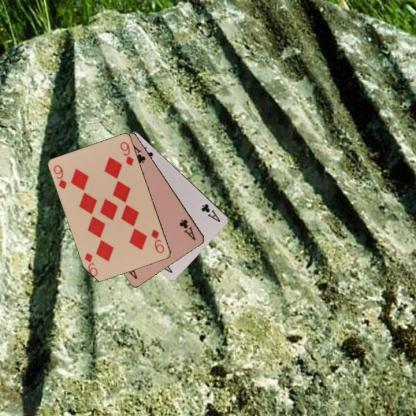9d: (148, 226, 166, 255), (51, 162, 68, 191)
Ac: (199, 201, 222, 224), (177, 217, 197, 242)
